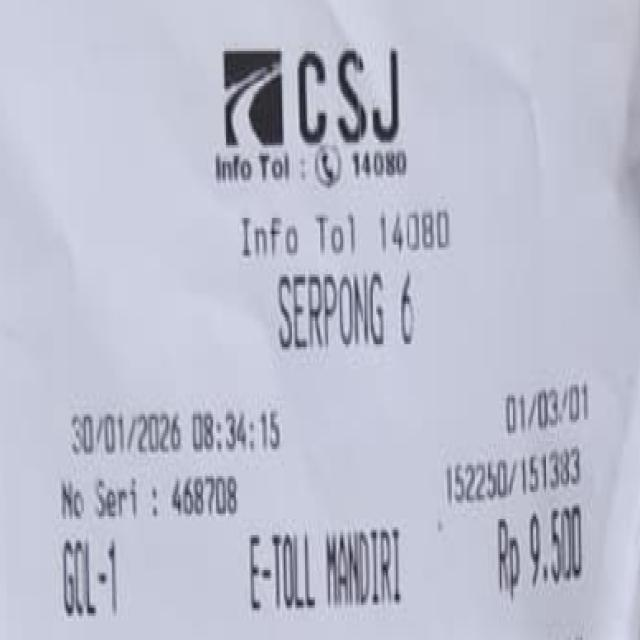date: (67, 407, 287, 463)
store: (215, 43, 415, 182)
total: (489, 509, 592, 597)
